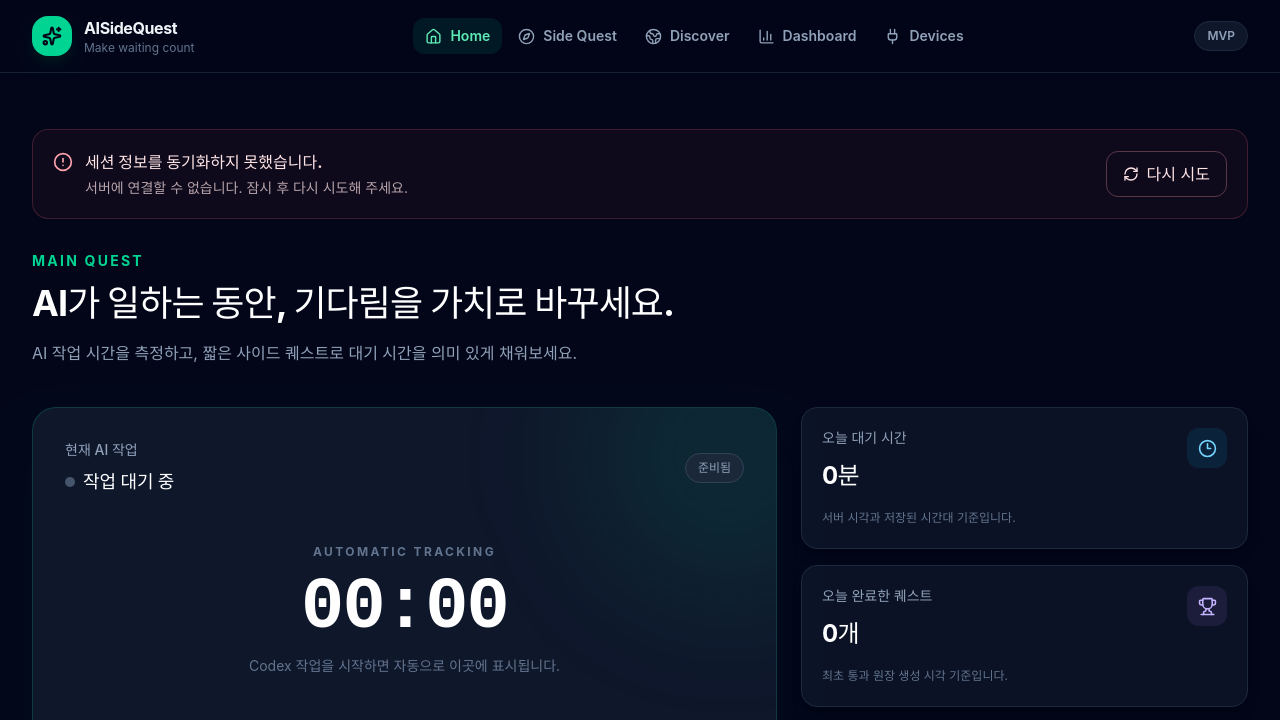
Test: AISideQuest API session flow › keeps an error state until retry reloads server data
Expected: the message shows "서버에 연결할 수 없습니다.", 85,179 -> 408,196
Click the button "다시 시도". click: [1166, 174]
box: 1106,151 -> 1227,197
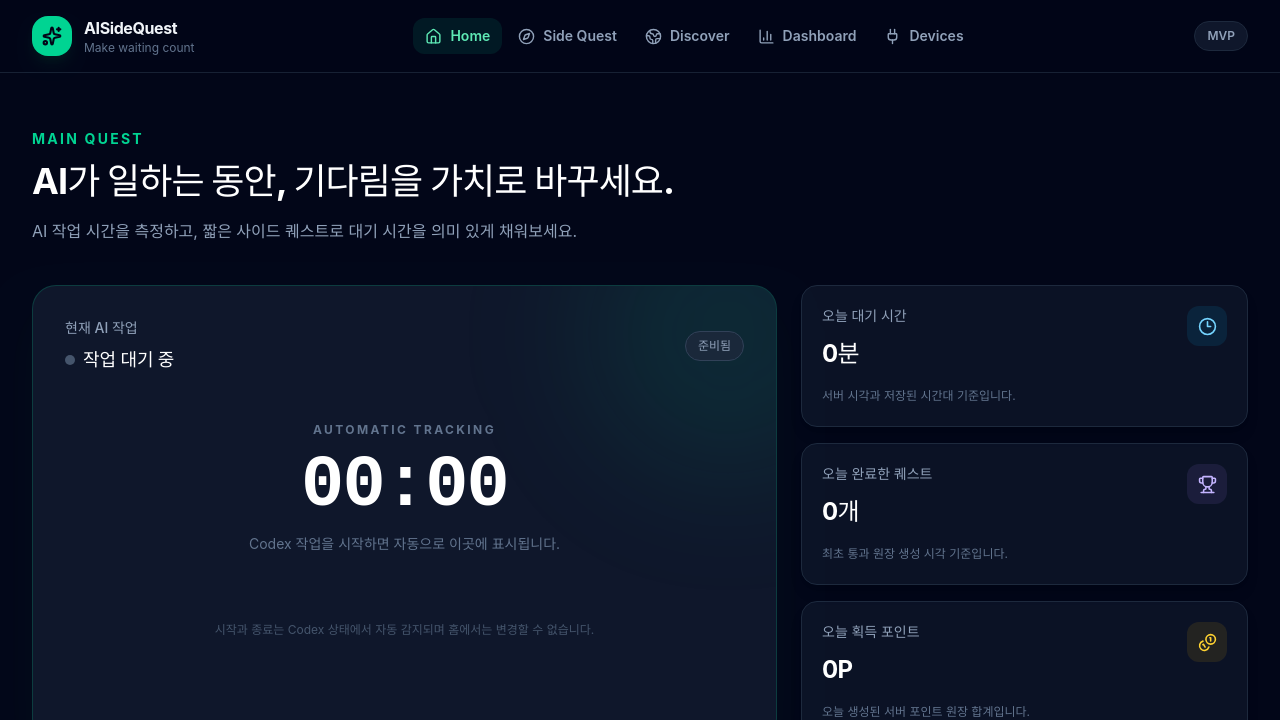
Expected: the text "작업 대기 중" is shown, 65,346 -> 174,374
Now the message "세션 정보를 동기화하지 못했습니다. 서버에 연결할 수 없습니다. 잠시 후 다시 시도해 주세요. 다시 시도" is gone
